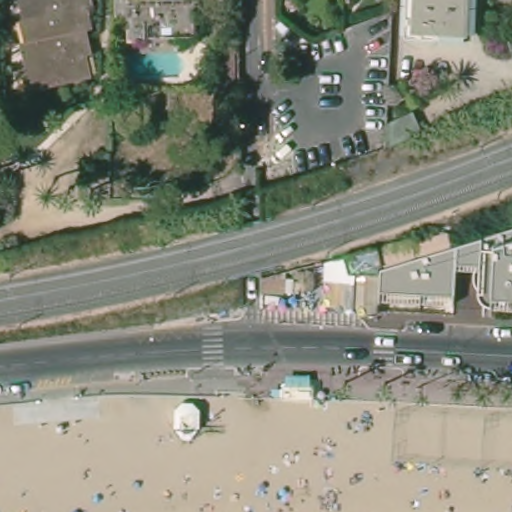pool: (125, 46, 189, 82)
